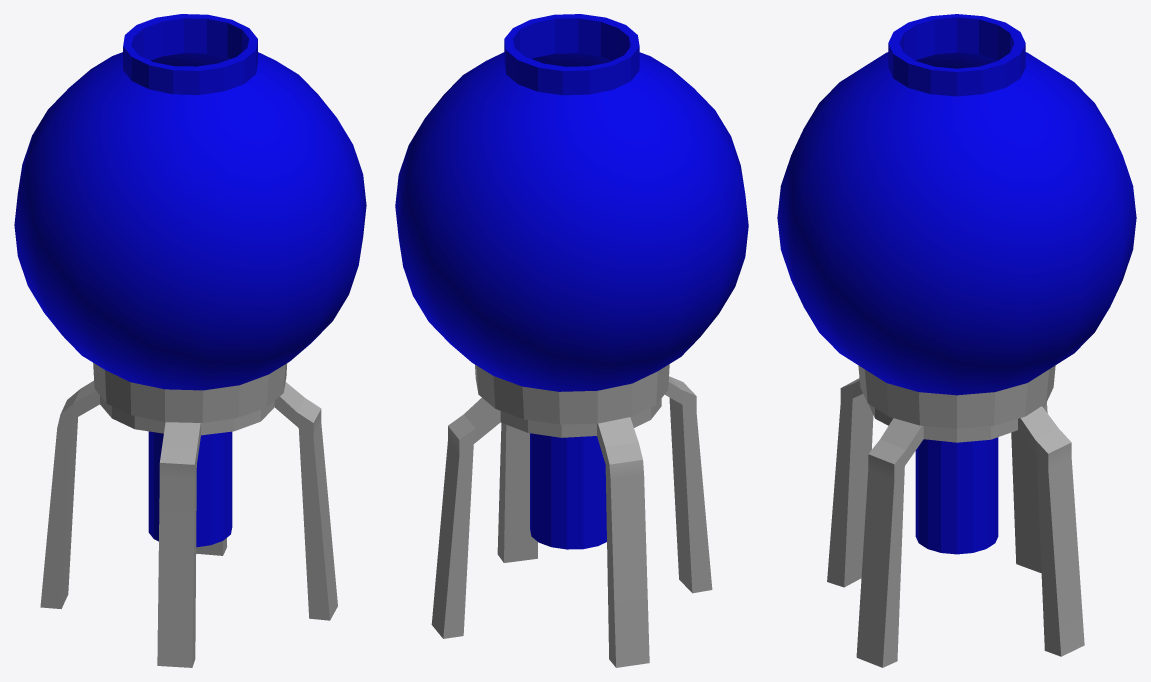
Rendered from tank03.fbx.
3 views of the same model, side by side, from view 1: azimuth 30°, elevation 25°; view 2: azimuth 150°, elevation 25°; view 3: azimuth 270°, elevation 25° (orthographic).
Visible parts, largest first — view 1: pCube7; view 2: pCube7; view 3: pCube7.
Part boxes in pixels (x1,y1,x2,y2): pCube7: (14,14,366,667); pCube7: (395,14,748,667); pCube7: (777,14,1136,667).
Size of the model in its own units: 16.52 by 28.93 by 16.52.
